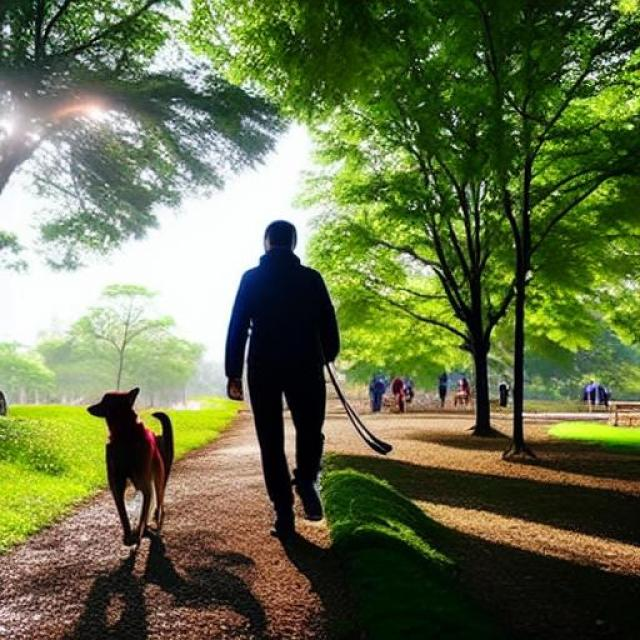Unleashed_Dog: (87, 361, 320, 547)
